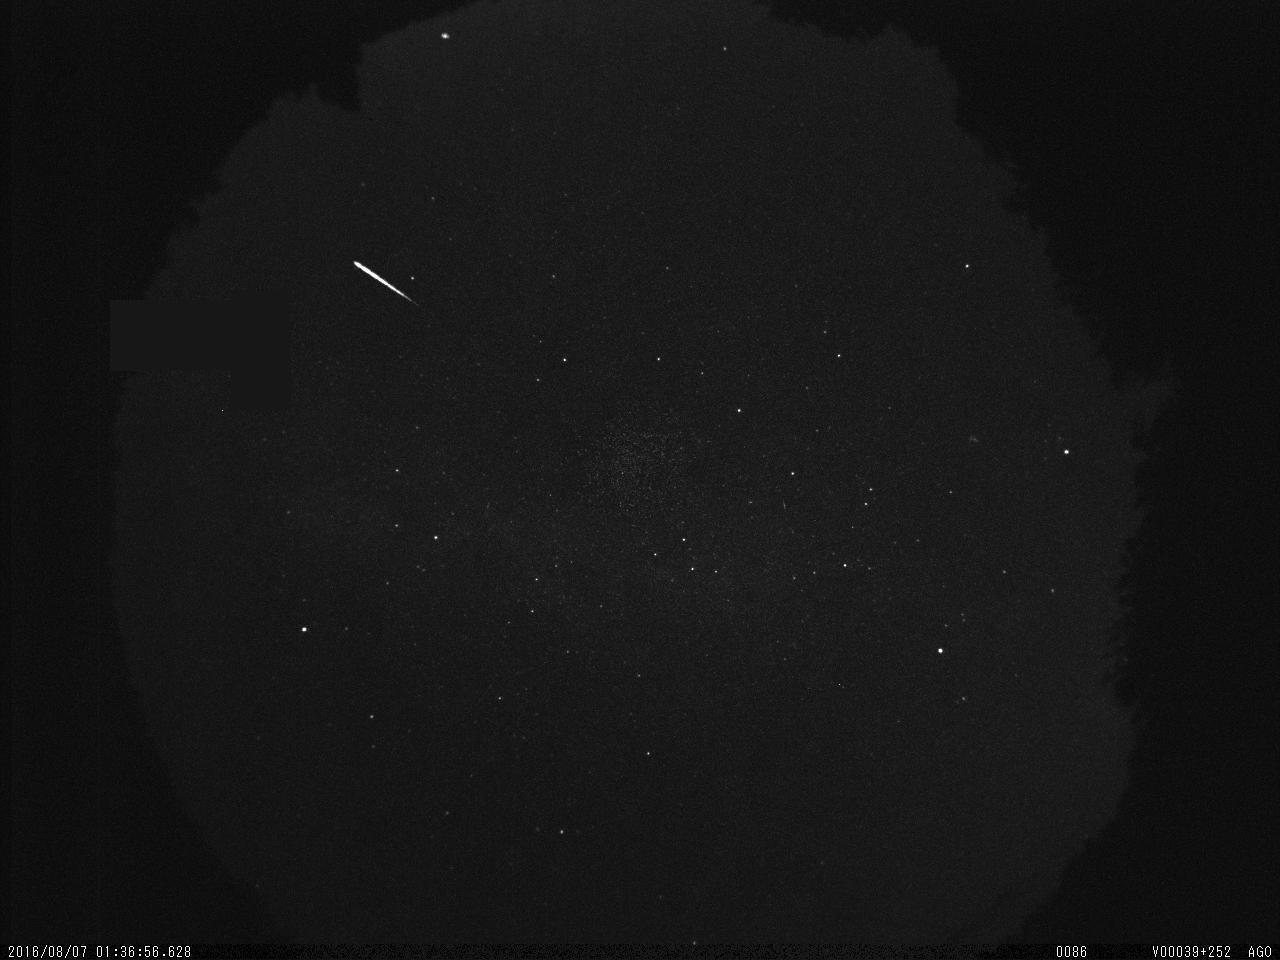Meteor: (348, 250, 420, 312)
